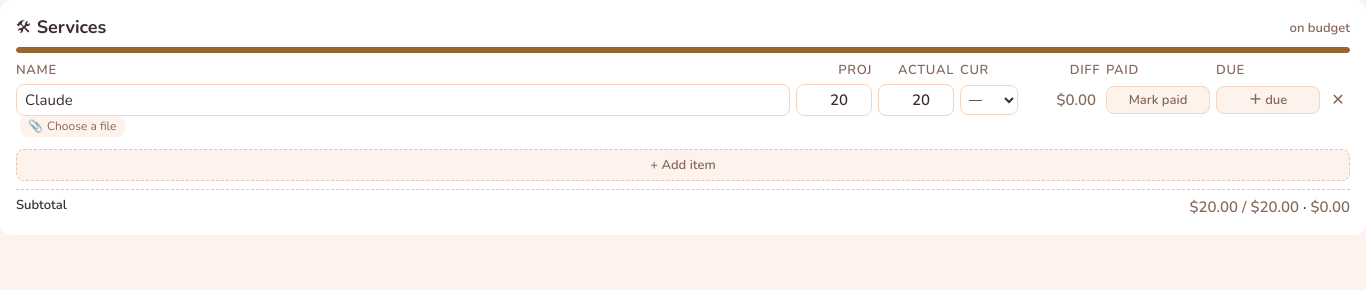
Test: CategoryTable › + Add item opens a draft row with a name input visible
Click the button "+ Add item" at (683, 165), box [16,149,1350,181]
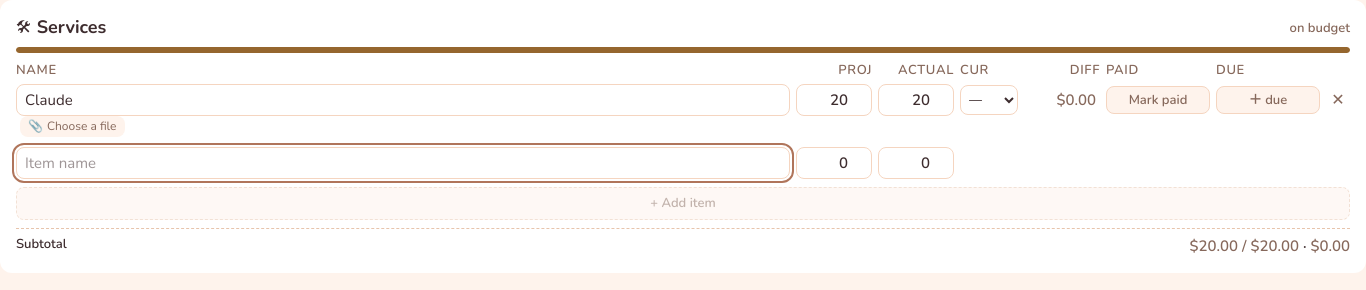
Check: the field with placeholder "Item name" is shown, box [16,147,790,179]
